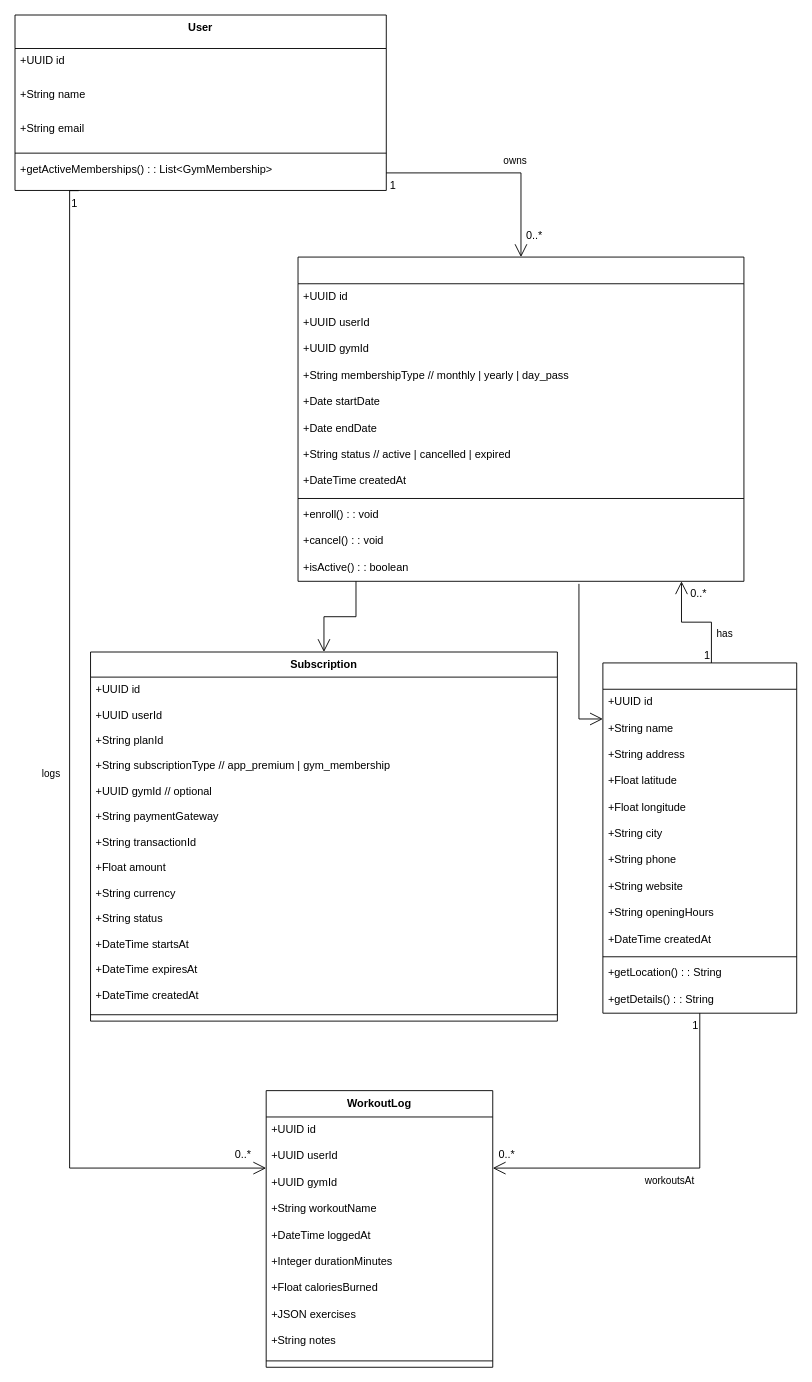
Image size: 812x1382. Some labels were removed from this diagram. Here are the shapes that lost their labels. From the top down, the box of each, then its label:
(297, 256, 744, 581): GymMembership
(602, 662, 797, 1013): Gym
